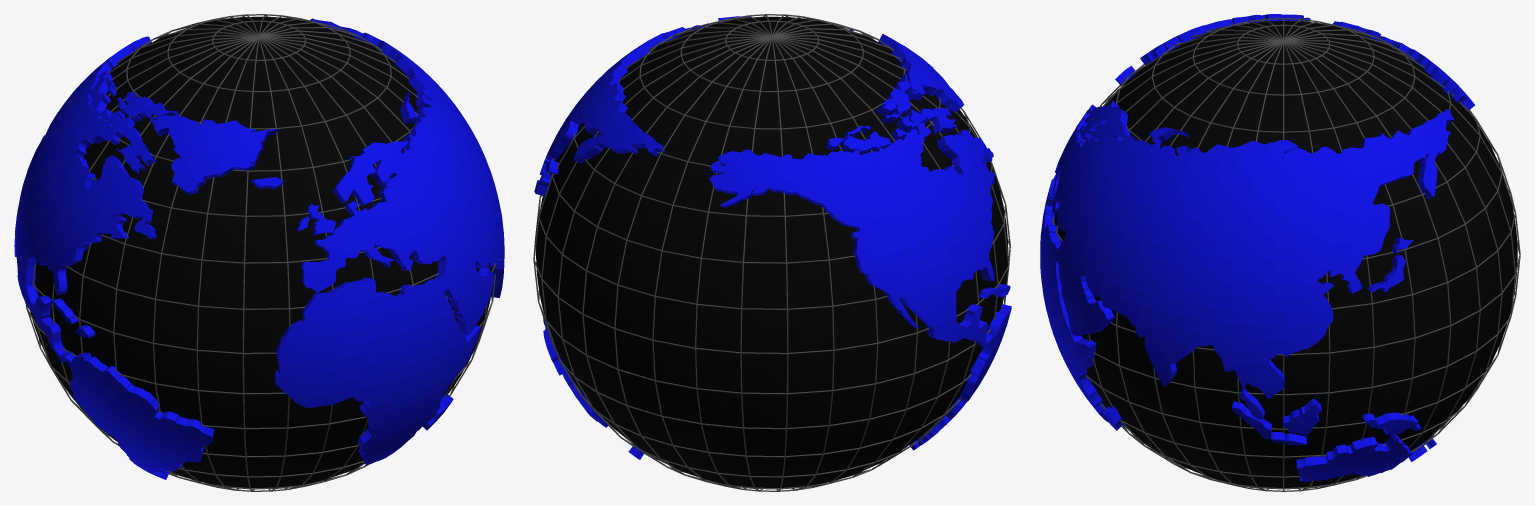
File: AR-Experience.glb
3 renders of one model, left to right at view 1: azimuth 30°, elevation 25°; view 2: azimuth 150°, elevation 25°; view 3: azimuth 270°, elevation 25°, orthographic.
Parts seen in each view (by area): view 1: Icosphere, Map, Sphere wire; view 2: Icosphere, Map, Sphere wire; view 3: Icosphere, Map, Sphere wire.
Part boxes in pixels (x1,y1,x2,y2): Icosphere: (30,17,493,487); Map: (14,17,504,479); Sphere wire: (26,14,495,491); Icosphere: (536,17,1008,487); Map: (534,16,1011,459); Sphere wire: (533,14,1010,491); Icosphere: (1054,21,1517,487); Map: (1040,14,1474,481); Sphere wire: (1052,18,1520,491).
Size of what is drawn, in the model's own units: 2.08 by 2.03 by 2.05.
